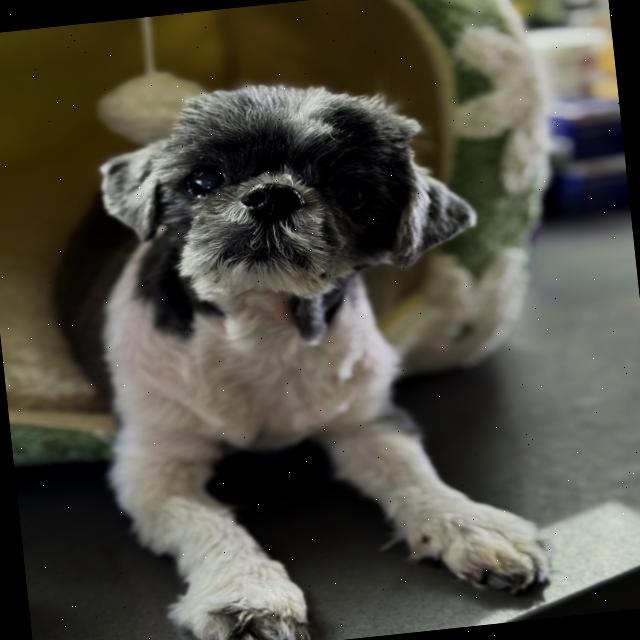shih_tzu_dog: (66, 49, 494, 352)
